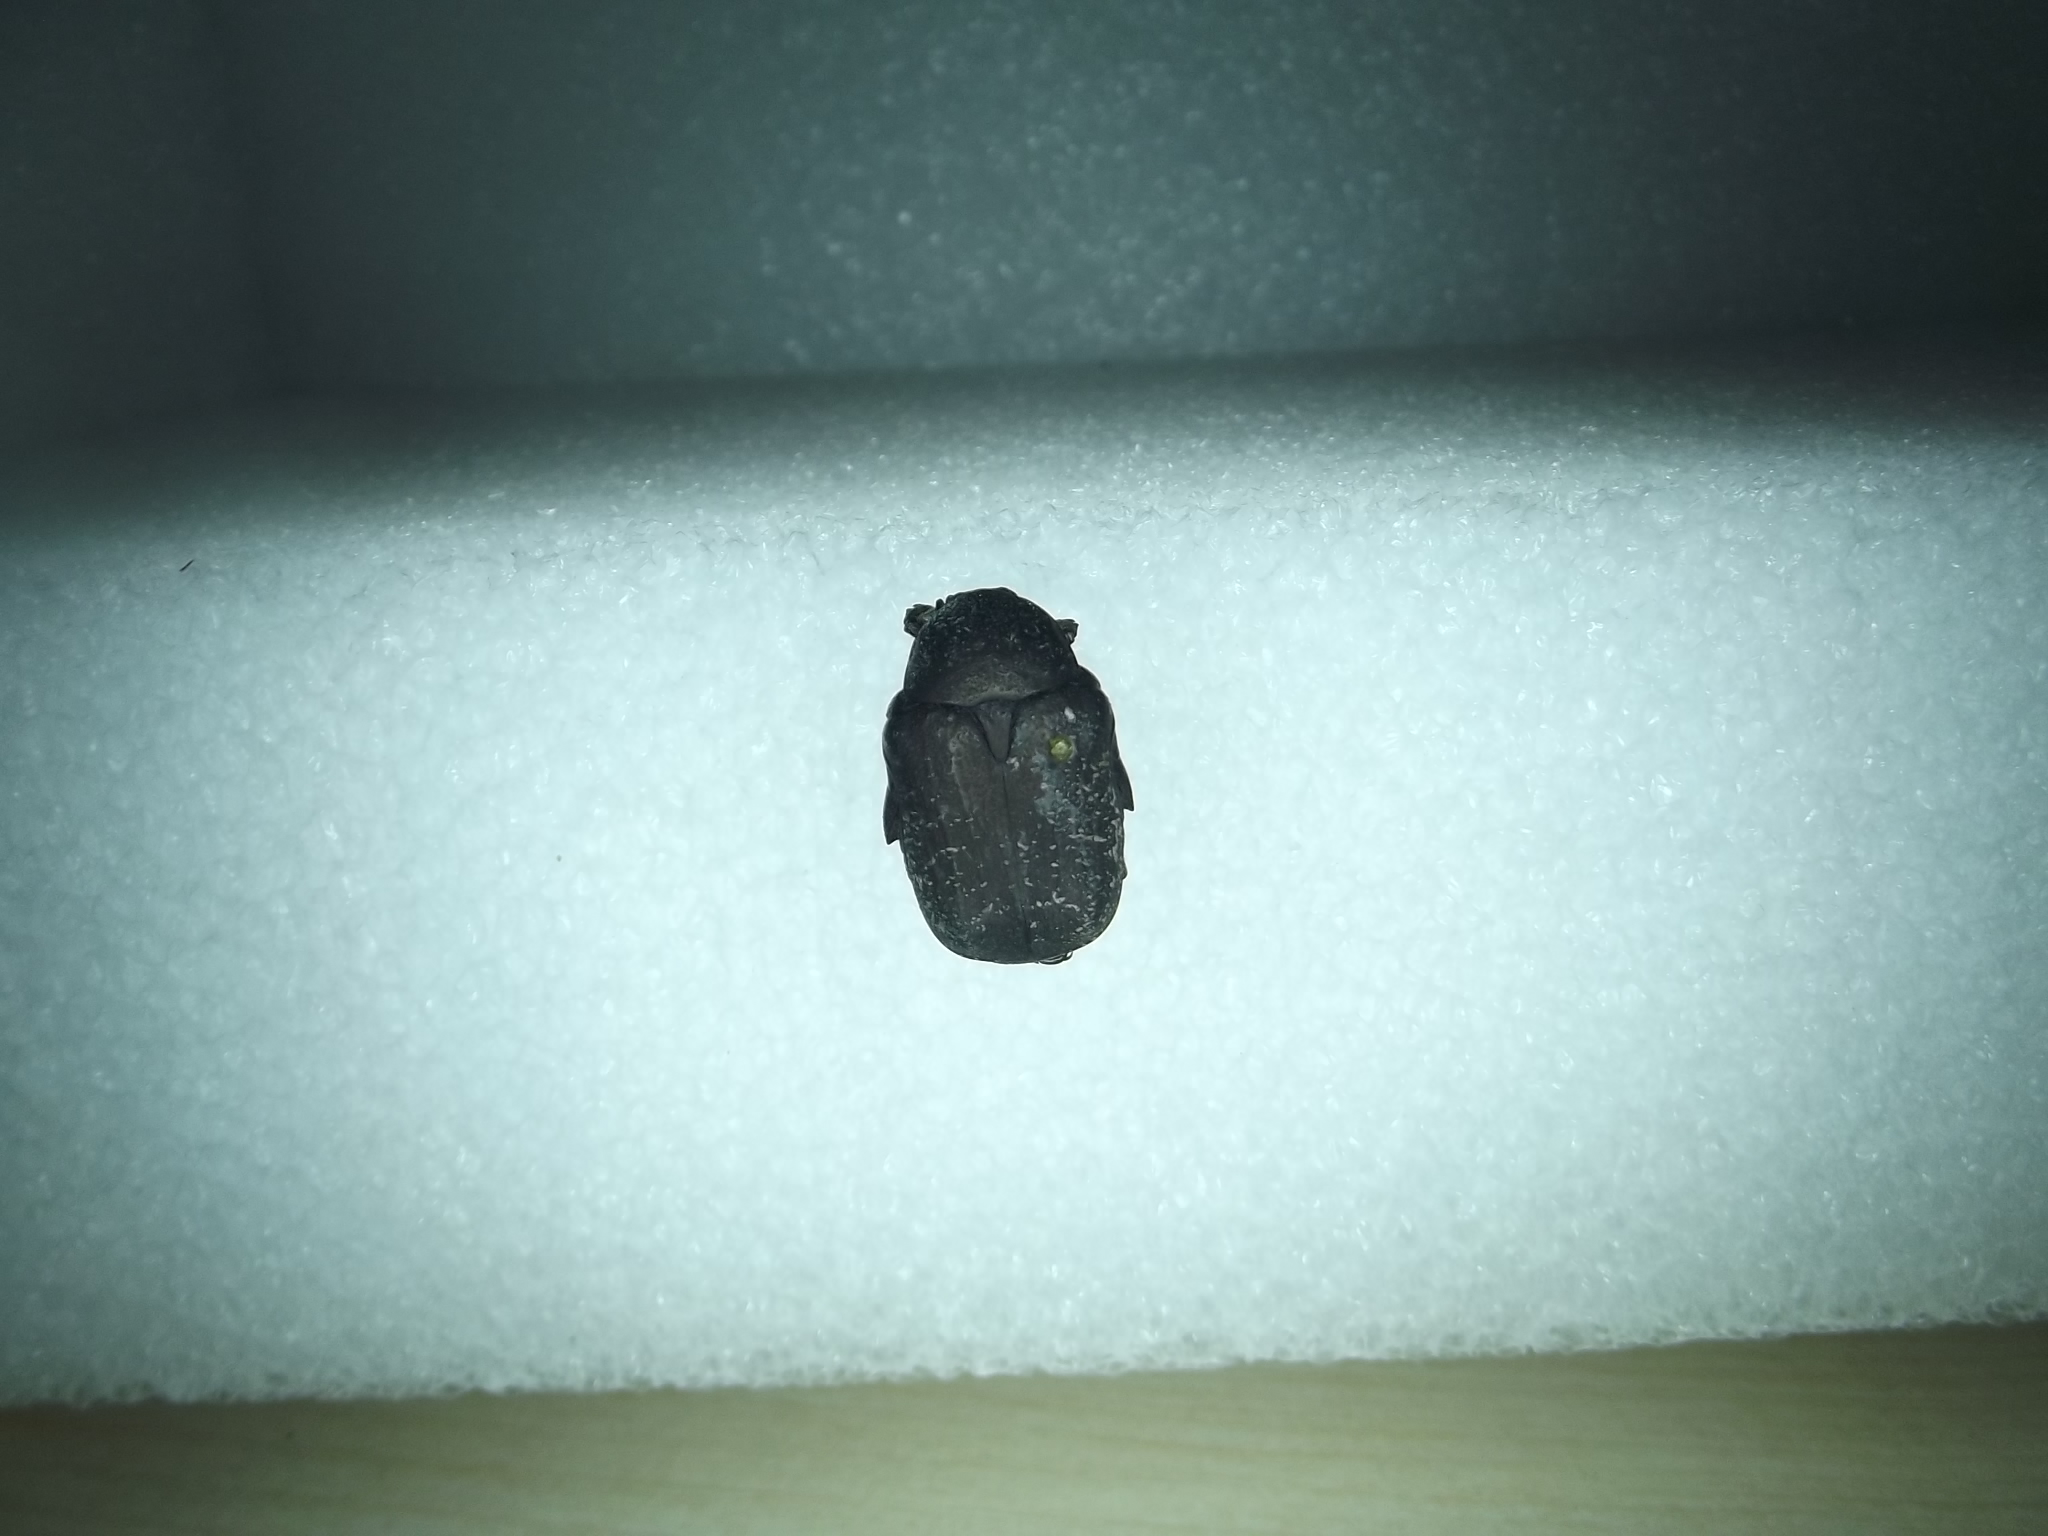Protaetia_asiatica: (868, 579, 1158, 1008)
